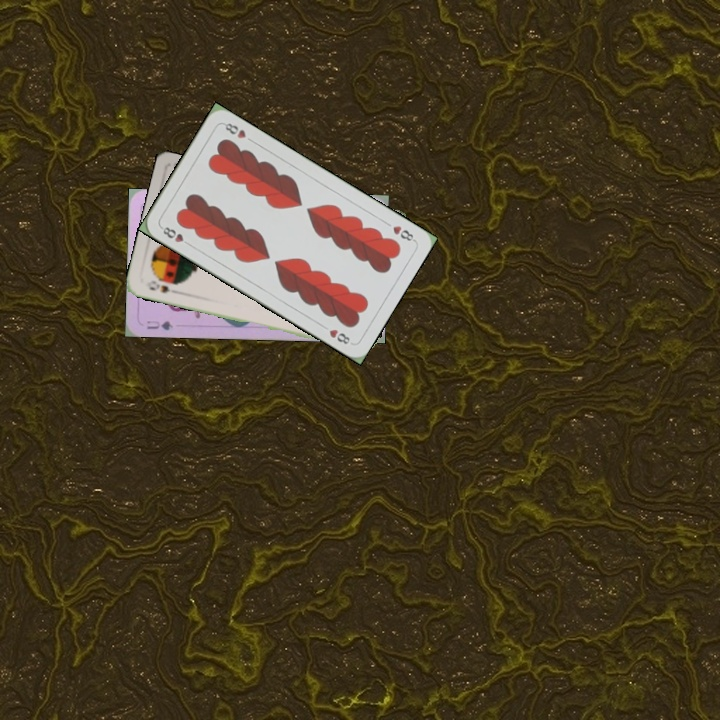GU: (143, 317, 175, 333)
H8: (157, 222, 193, 249), (381, 217, 417, 244)
SO: (144, 277, 173, 295)
